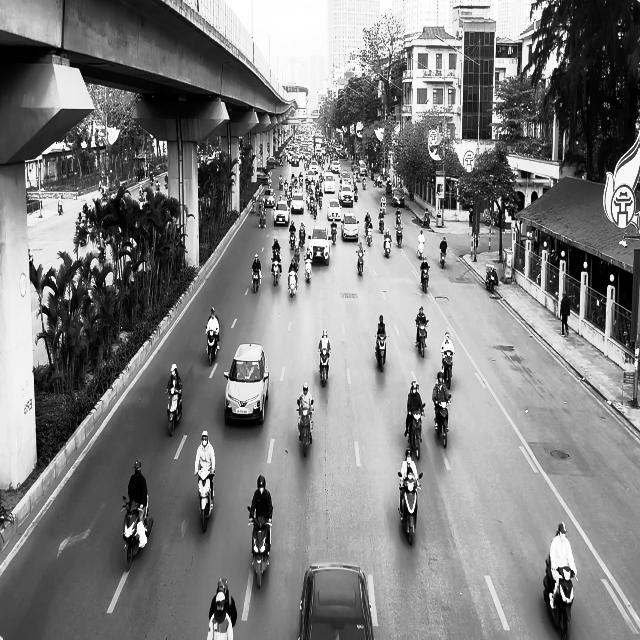car: (298, 562, 376, 640), (223, 342, 270, 424), (308, 224, 331, 265), (342, 212, 359, 241), (273, 201, 290, 226), (327, 198, 342, 220), (391, 187, 405, 207)
motorbike: (543, 556, 577, 639), (122, 495, 154, 572), (248, 506, 272, 589), (398, 471, 423, 545), (195, 467, 215, 532), (297, 399, 314, 457), (407, 406, 425, 459), (434, 397, 452, 447), (166, 384, 183, 436), (375, 333, 389, 372), (206, 328, 220, 366), (318, 347, 331, 387), (416, 318, 428, 358), (442, 351, 454, 389), (288, 266, 299, 298), (486, 265, 498, 292), (251, 266, 262, 292), (272, 258, 282, 285), (420, 265, 430, 292), (304, 254, 313, 282), (357, 250, 365, 276), (384, 236, 392, 258), (396, 225, 403, 248), (331, 221, 337, 244), (440, 247, 446, 269)
